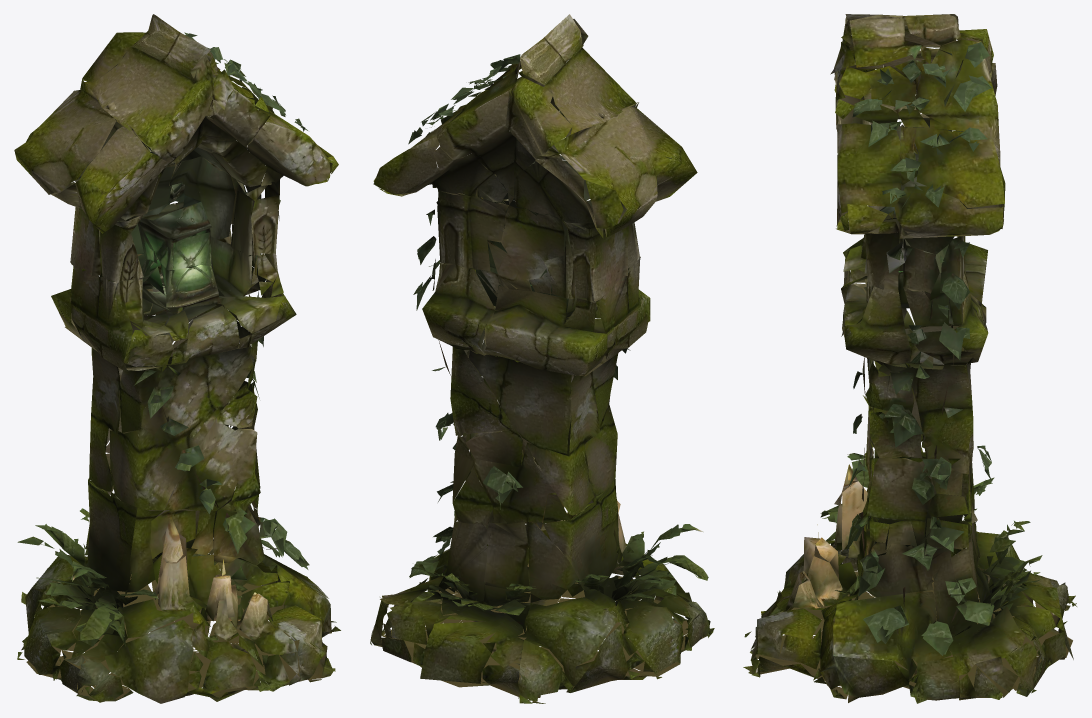
The model's file is LanternShrine.fbx.
3 views of the same model, side by side, from view 1: azimuth 30°, elevation 25°; view 2: azimuth 150°, elevation 25°; view 3: azimuth 270°, elevation 25° (orthographic). The views are drawn at different scales.
Parts seen in each view (by area): view 1: LanternShrine_Body; view 2: LanternShrine_Body; view 3: LanternShrine_Body.
Part boxes in pixels (left/top/right/bottom): LanternShrine_Body: left=14, top=14, right=340, bottom=703; LanternShrine_Body: left=370, top=14, right=714, bottom=703; LanternShrine_Body: left=743, top=14, right=1076, bottom=703.
Size of the model in its own units: 0.4669 by 1 by 0.4823.
Materials: 1 (1 with a texture image).
